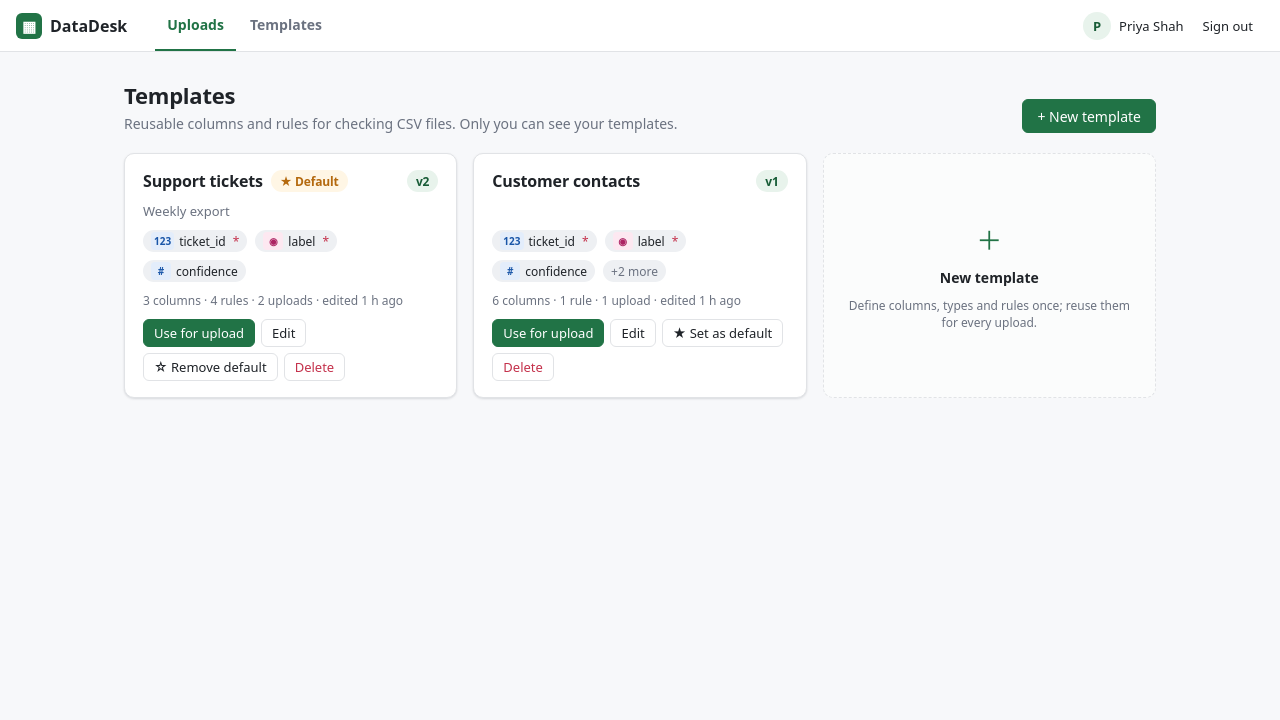
Test case: TemplatesPage › delete asks in the dialog (with the upload count); cancel does nothing, confirm deletes
Click the button "Delete" below "Weekly export".
click(314, 367)  # box [284,353,345,381]
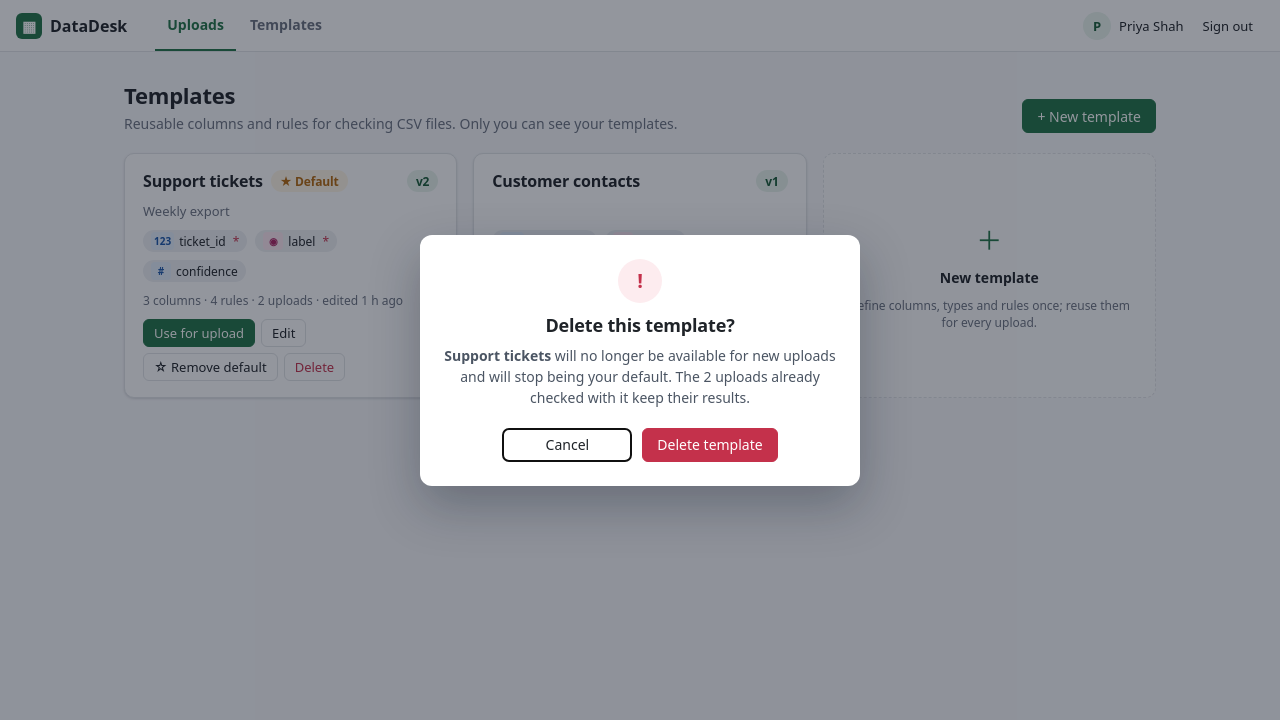
Expected: the dialog shows "Delete this template?", [545,312,734,336]
Expected: the dialog shows "will stop being your default", [460,366,668,386]
Expected: the dialog shows "The 2 uploads already checked with it keep their results.", [420,234,860,486]
Click the button "Cancel".
click(567, 444)  # box [502,428,632,462]
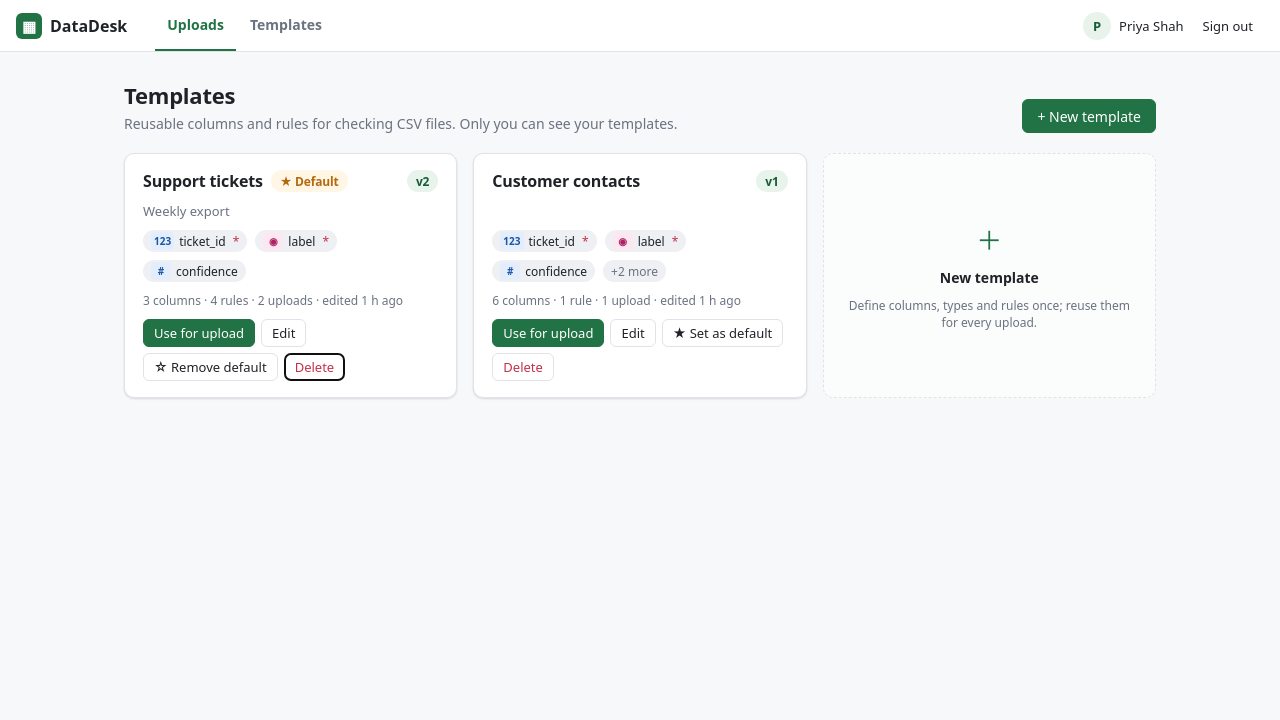
Click the button "Delete" below "Weekly export".
click(314, 367)  # box [284,353,345,381]
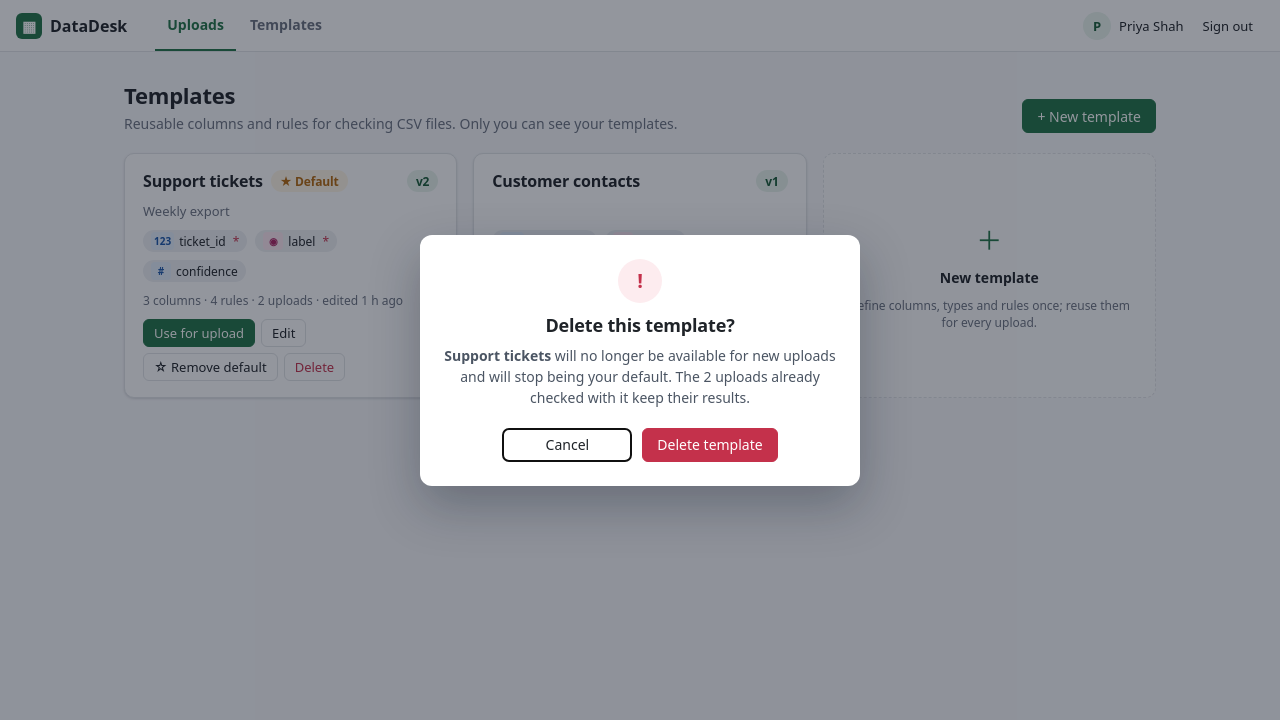
Click the button "Delete template".
click(710, 444)  # box [642,428,778,462]
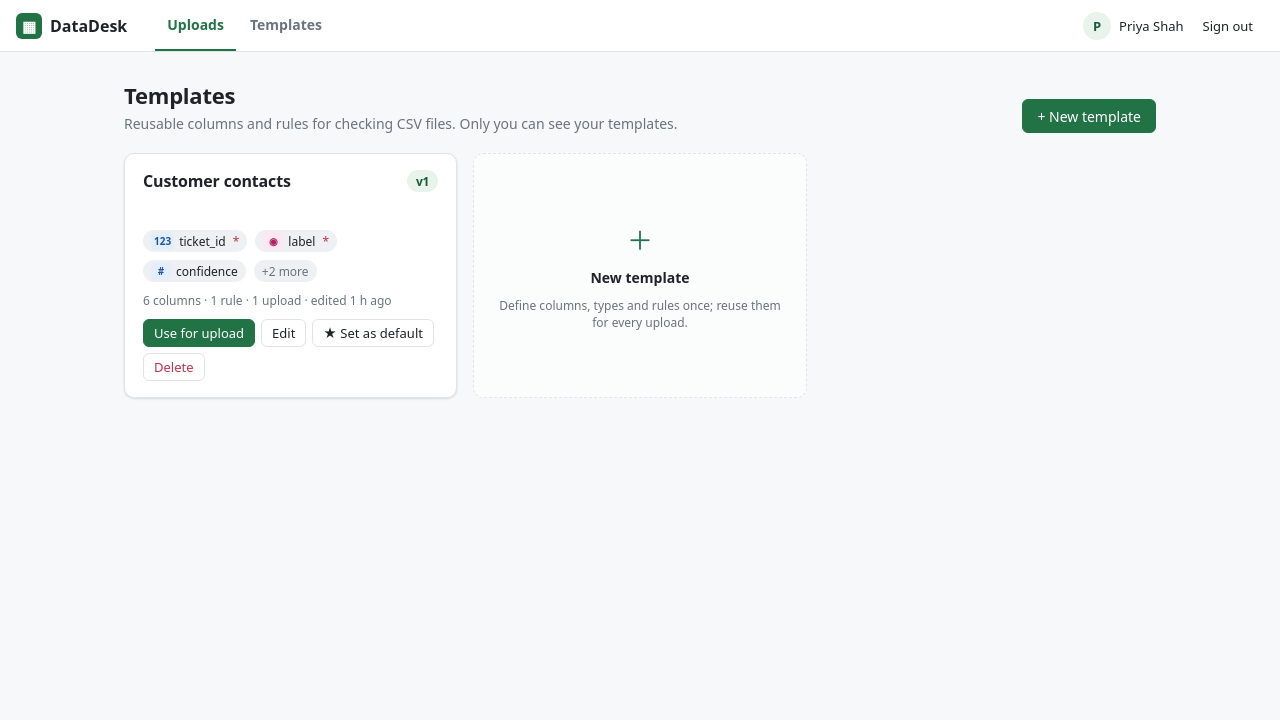
Expected: the number of elements with test id "template-card" is 1, [124,153,457,398]
